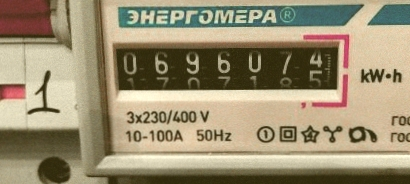0: (120, 49, 138, 74), (246, 47, 262, 73)
4: (308, 46, 322, 67)
5: (308, 68, 322, 87)
6: (151, 48, 169, 73), (215, 47, 231, 74)
7: (277, 48, 293, 74)
9: (183, 48, 200, 74)
screen: (105, 29, 352, 107)
